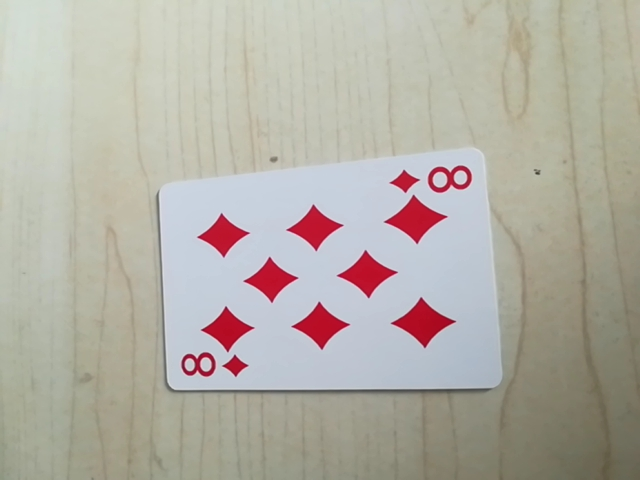fk 8: (388, 157, 477, 199), (175, 348, 249, 387)
